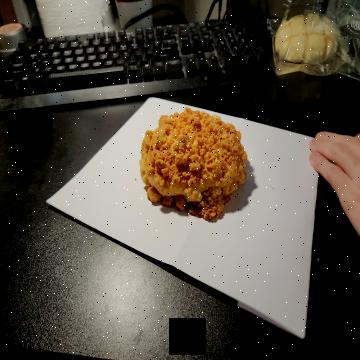soboru_bread: (135, 107, 245, 223)
